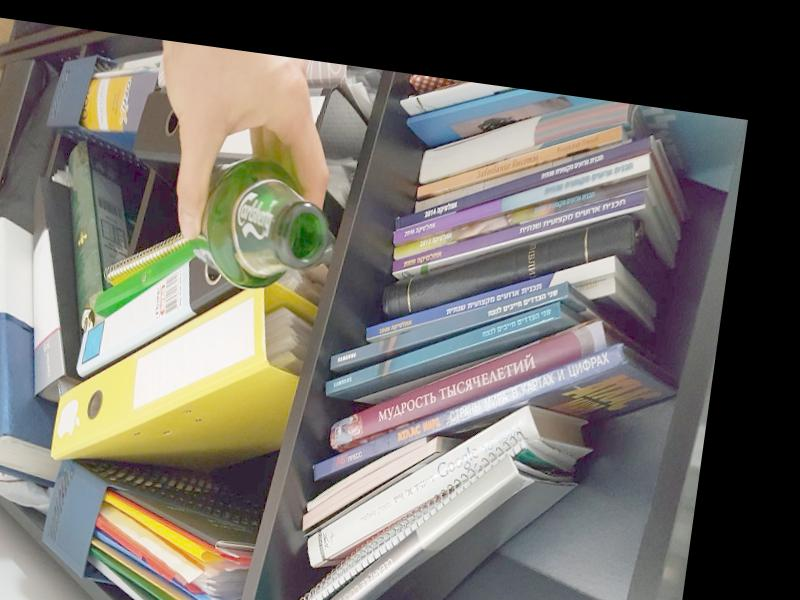Beer: (182, 155, 333, 297)
